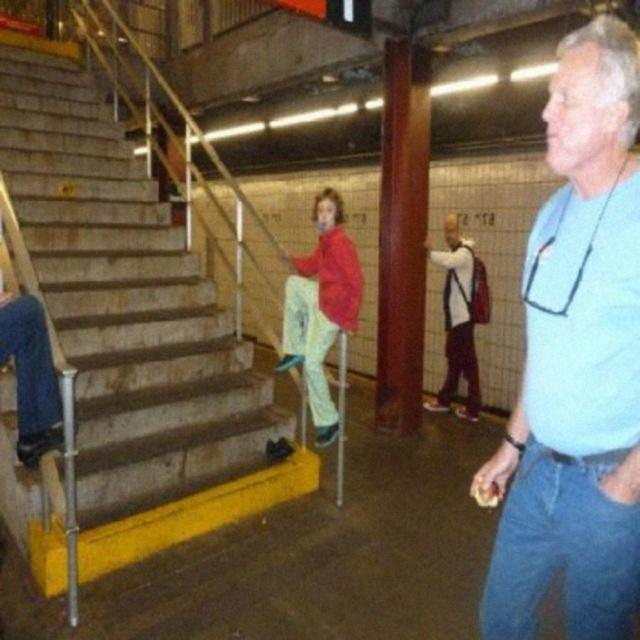stair: (0, 38, 323, 600)
